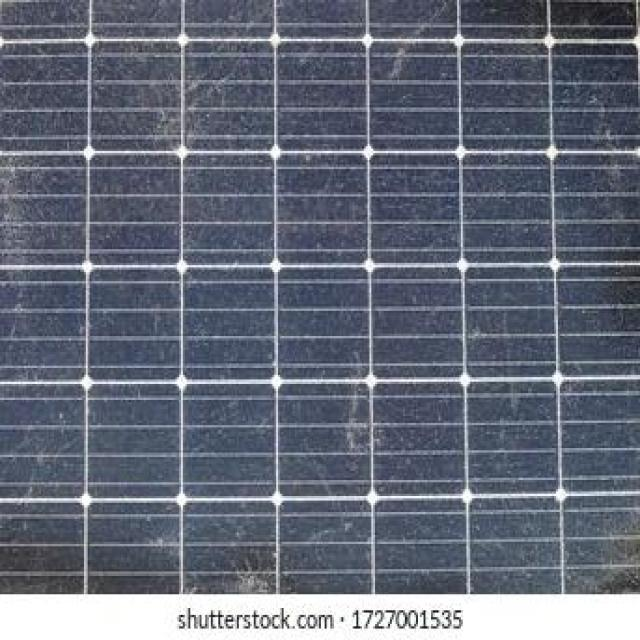soiled: (2, 2, 640, 594)
